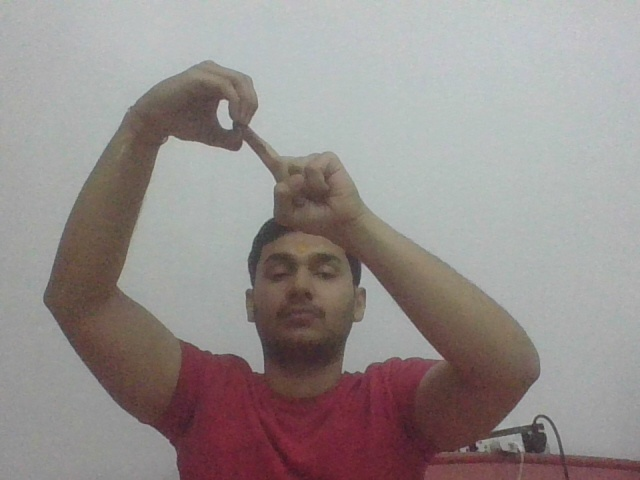Q: (177, 60, 334, 218)
